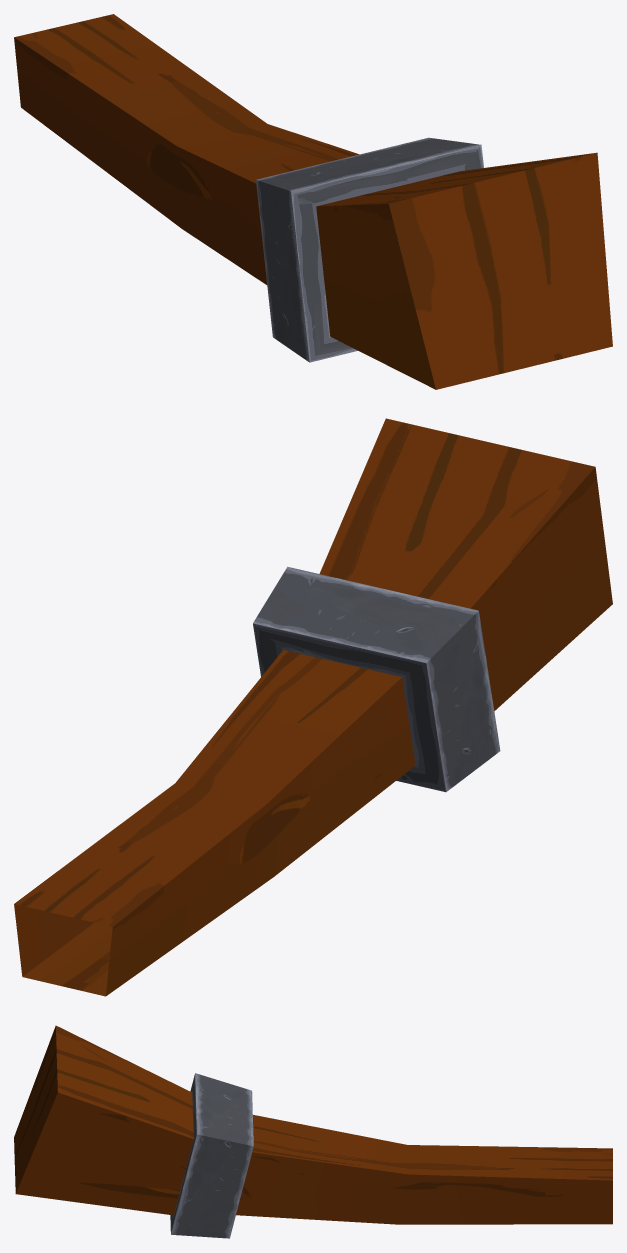
Rendered from SM_BLD_beam_small_v06_01.fbx.
3 renders of one model, top to bottom at view 1: azimuth 30°, elevation 25°; view 2: azimuth 150°, elevation 25°; view 3: azimuth 270°, elevation 25°, orthographic. The views are drawn at different scales.
Parts seen in each view (by area): view 1: SM_BLD_beam_small_v06_01; view 2: SM_BLD_beam_small_v06_01; view 3: SM_BLD_beam_small_v06_01.
Boxes of the visible parts, left/top/right/bottom form: SM_BLD_beam_small_v06_01: left=14, top=14, right=612, bottom=389; SM_BLD_beam_small_v06_01: left=14, top=418, right=612, bottom=996; SM_BLD_beam_small_v06_01: left=14, top=1025, right=612, bottom=1238.
Size of the model in its own units: 88.96 by 95.67 by 340.
